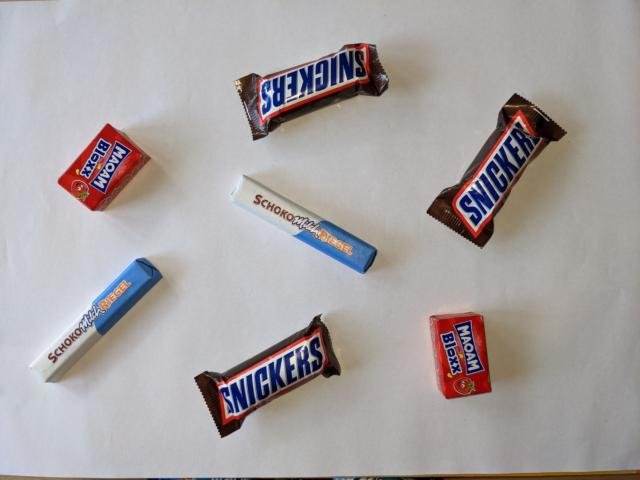MAOAM: (54, 121, 153, 214), (426, 308, 494, 401)
Schokoriegel: (25, 254, 166, 387), (224, 171, 379, 276)
Snickers: (424, 91, 568, 251), (192, 312, 344, 440), (232, 41, 391, 142)
